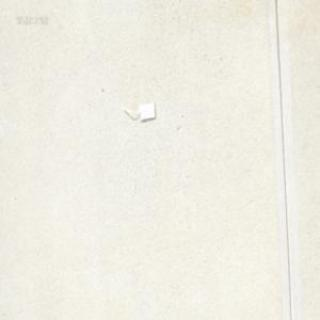LuggageTagtrack_idkeyframe: (119, 100, 155, 120)
